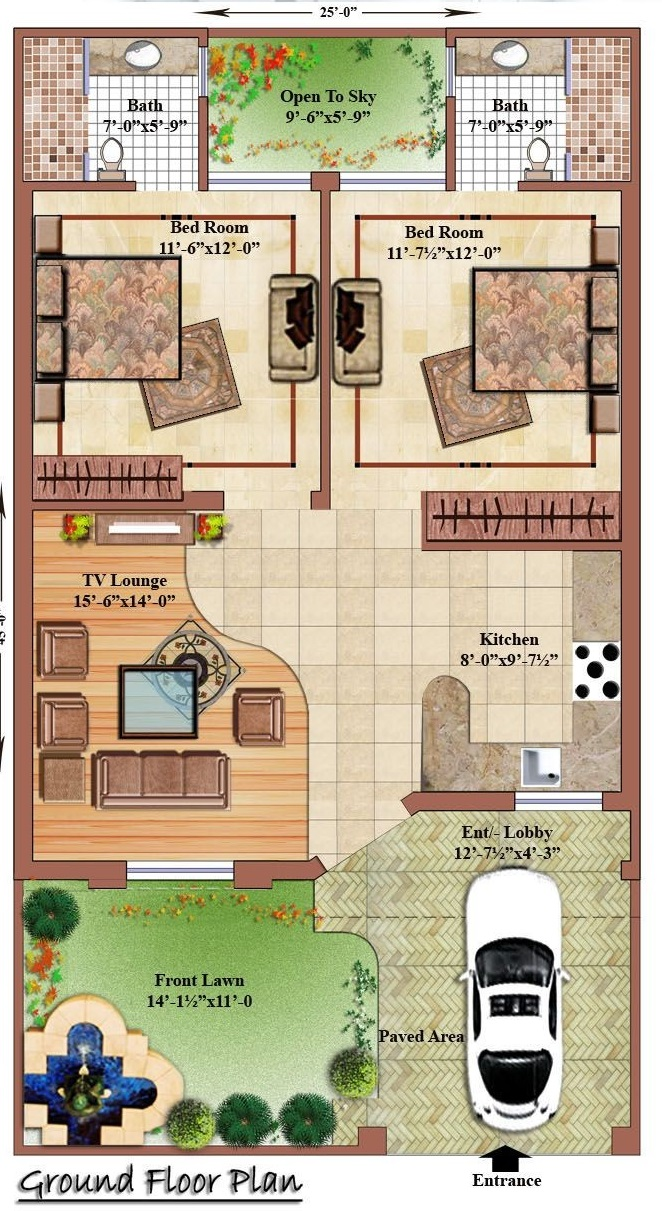wall: (621, 183, 641, 776), (15, 186, 29, 872), (623, 182, 638, 797), (75, 26, 618, 36), (22, 1144, 376, 1155), (320, 188, 330, 507), (13, 880, 24, 1155), (630, 879, 640, 1156), (17, 861, 127, 879), (33, 499, 223, 509), (12, 28, 23, 186), (630, 27, 641, 185), (233, 860, 314, 881), (418, 792, 515, 809), (423, 541, 624, 548), (197, 96, 208, 191), (445, 95, 455, 192), (17, 182, 132, 189), (516, 181, 631, 188), (631, 794, 640, 879), (182, 492, 225, 508), (603, 793, 639, 809), (311, 173, 340, 190)
